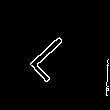L_NE: (26, 26, 84, 84)
